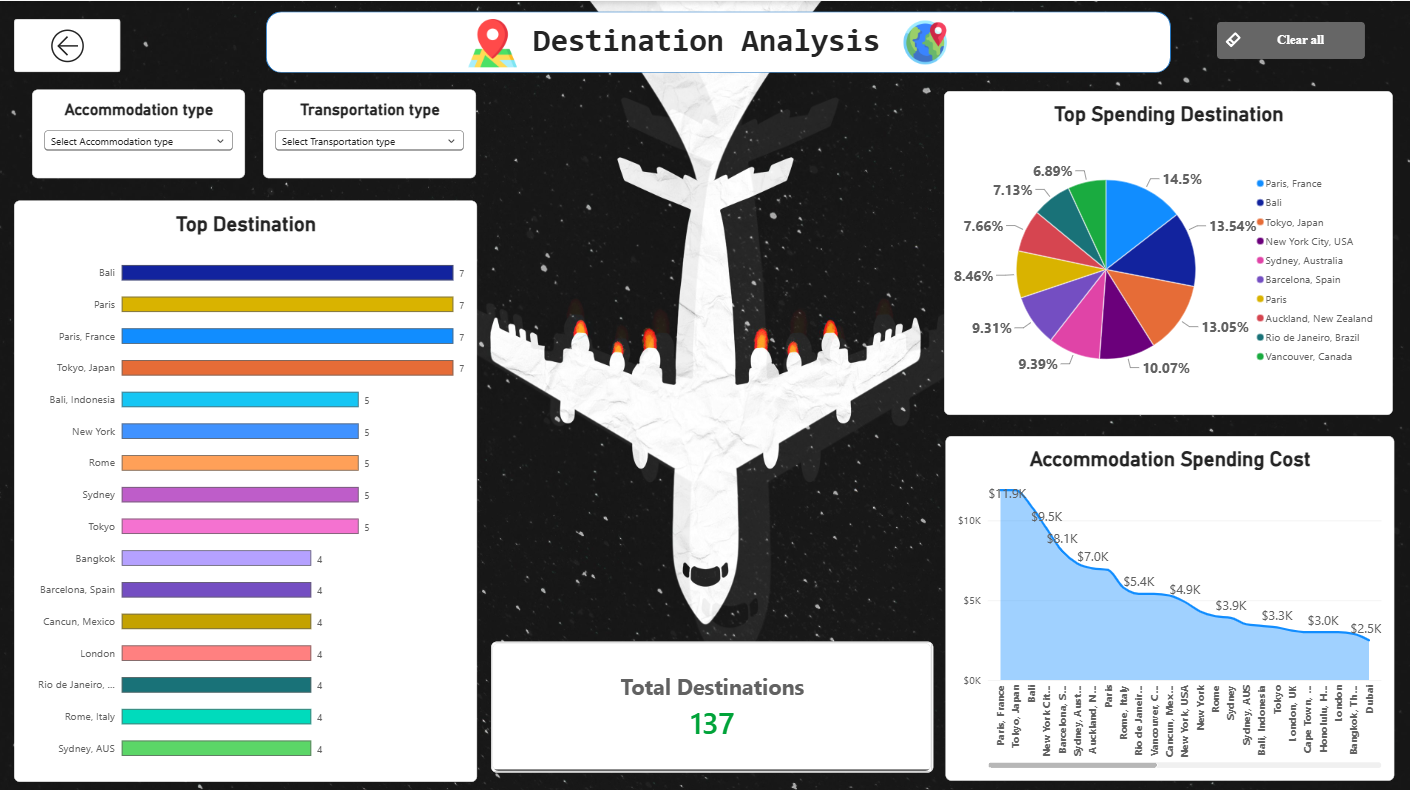

The dashboard page shown, as its layout file describes it:
{"tool":"powerbi","page":{"name":"Page 2","canvas":[1920,1080],"ordinal":1},"visuals":[{"type":"barChart","title":"Top Destination ","fields":{"Category":["Travel details dataset.Destination"],"Series":["Travel details dataset.Destination"],"Y":["CountNonNull(Travel details dataset.Destination)"]},"box":[24.1,269.3,626.1,786],"z":0},{"type":"pieChart","title":"Top Spending Destination","fields":{"Category":["Travel details dataset.Destination"],"Y":["Sum(Travel details dataset.Total Cost)"]},"box":[1282.2,122.2,606.7,437.8],"z":1000},{"type":"listSlicer","fields":{"Values":["Travel details dataset.Accommodation type"]},"box":[44.4,122.2,273.3,124.4],"z":2000},{"type":"areaChart","title":"Accommodation Spending Cost","fields":{"Category":["Travel details dataset.Destination"],"Y":["Sum(Travel details dataset.Accommodation cost)"]},"box":[1282.9,588.9,606.4,466.3],"z":3000},{"type":"listSlicer","fields":{"Values":["Travel details dataset.Transportation type"]},"box":[337.1,122.6,313.1,124.8],"z":4000},{"type":"shape","box":[364.3,14.8,1223.1,82.9],"z":5000},{"type":"textbox","box":[584.5,28.5,753.1,59.1],"z":6000},{"type":"cardVisual","fields":{"Data":["CountNonNull(Travel details dataset.Destination)"]},"box":[669.9,864.8,597.7,177.3],"z":7000},{"type":"actionButton","box":[1650.7,28.5,200,50],"z":8000},{"type":"image","box":[589.3,23.7,162.9,65.2],"z":9000},{"type":"image","box":[1175.7,26.7,159.9,59.2],"z":10000}]}

Visuals, with their boxes in screenshot pixels (x1, y1, x2, y2), scaled from the page's 1920x1080 canvas onto the 1410x790 screenshot:
"Top Destination " barChart: (18,197,477,772)
"Top Spending Destination" pieChart: (942,89,1387,410)
listSlicer - Travel details dataset.Accommodation type: (33,89,233,180)
"Accommodation Spending Cost" areaChart: (942,431,1387,772)
listSlicer - Travel details dataset.Transportation type: (248,90,477,181)
shape: (268,11,1166,71)
textbox: (429,21,982,64)
cardVisual - CountNonNull(Travel details dataset.Destination): (492,633,931,762)
actionButton: (1212,21,1359,57)
image: (433,17,552,65)
image: (863,20,981,63)
